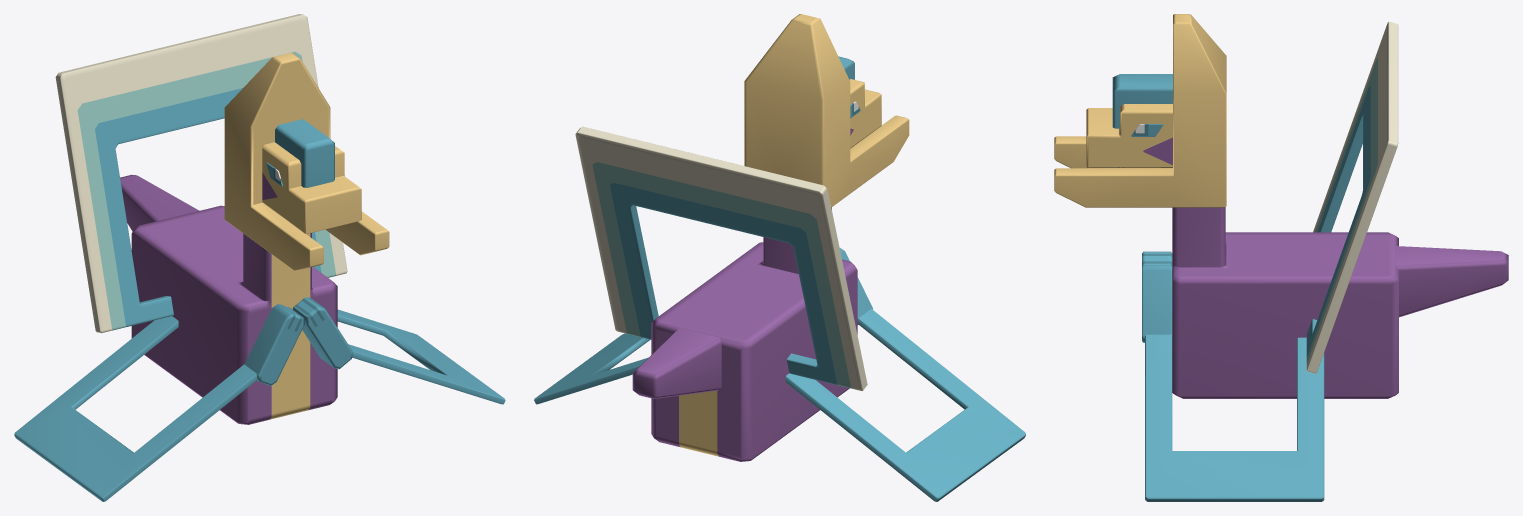
File: model_shiny.obj
3 views of the same model, side by side, from view 1: azimuth 30°, elevation 25°; view 2: azimuth 150°, elevation 25°; view 3: azimuth 270°, elevation 25° (orthographic).
Visible parts, largest first — view 1: 0488_cresselia_shiny; view 2: 0488_cresselia_shiny; view 3: 0488_cresselia_shiny.
Boxes of the visible parts, x1,y1,x2,y2 form: 0488_cresselia_shiny: (14, 14, 505, 501); 0488_cresselia_shiny: (534, 14, 1025, 501); 0488_cresselia_shiny: (1054, 14, 1508, 501).
Bounding box in the file's own units: 4.32 × 3.91 × 4.18.
Materials: 1 (1 with a texture image).
